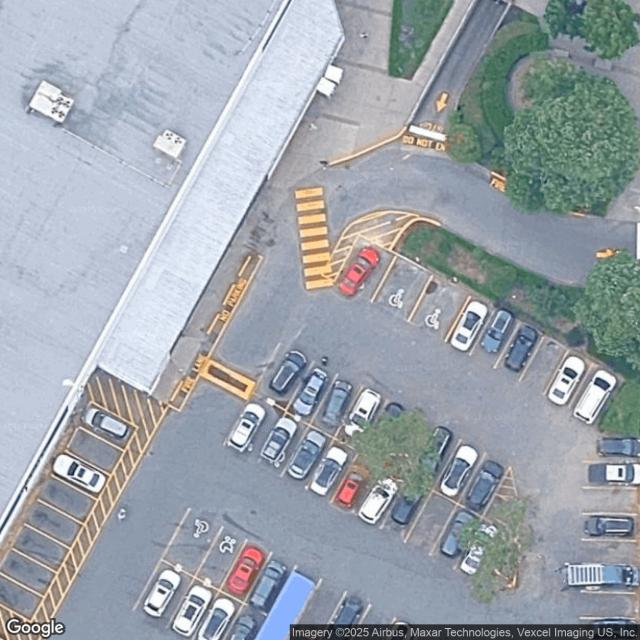car: (458, 455, 510, 518), (304, 440, 356, 502), (569, 365, 620, 428), (337, 384, 387, 447), (442, 298, 491, 362), (362, 396, 411, 460), (332, 243, 387, 299), (455, 519, 506, 579), (409, 421, 456, 485), (435, 440, 483, 501), (283, 423, 331, 484), (168, 580, 217, 639), (244, 553, 292, 613), (354, 470, 403, 528), (306, 441, 353, 499), (138, 564, 185, 622), (264, 343, 312, 399), (287, 364, 333, 422), (222, 542, 268, 600), (224, 400, 270, 457), (436, 503, 482, 560), (317, 375, 359, 434), (257, 412, 302, 467), (545, 353, 589, 408), (331, 459, 375, 512), (500, 321, 543, 375), (386, 475, 429, 528), (477, 305, 518, 358), (192, 595, 241, 639), (326, 593, 367, 639), (586, 461, 639, 487), (584, 514, 637, 538), (586, 619, 639, 640), (595, 436, 639, 459), (225, 611, 260, 639)
lot_boundary: (115, 234, 639, 639)
objects: (253, 570, 318, 639)
stall: (254, 340, 316, 408), (410, 276, 470, 344), (567, 360, 626, 429), (334, 238, 396, 303), (371, 256, 433, 321), (227, 393, 286, 461), (135, 560, 194, 628), (163, 511, 221, 578), (335, 387, 388, 453), (332, 451, 385, 517), (281, 423, 334, 489), (433, 438, 486, 504), (310, 373, 363, 438), (305, 438, 358, 503), (257, 411, 310, 476), (405, 489, 458, 554), (380, 476, 433, 541), (493, 319, 546, 384), (469, 306, 522, 371), (542, 346, 595, 411), (518, 332, 571, 397), (385, 411, 437, 477), (356, 463, 408, 529), (429, 503, 481, 569), (444, 293, 496, 359), (286, 359, 338, 424), (409, 425, 461, 490), (459, 452, 511, 517), (454, 518, 506, 583), (360, 401, 412, 465), (243, 553, 294, 617), (221, 542, 271, 604), (195, 531, 245, 591), (295, 581, 346, 639), (169, 579, 218, 639), (191, 592, 243, 639), (323, 593, 369, 639), (219, 602, 267, 639), (581, 514, 639, 542), (582, 566, 639, 594), (585, 433, 639, 462), (585, 461, 639, 490), (582, 540, 639, 567), (584, 488, 639, 514), (585, 593, 640, 618), (583, 616, 639, 639)
